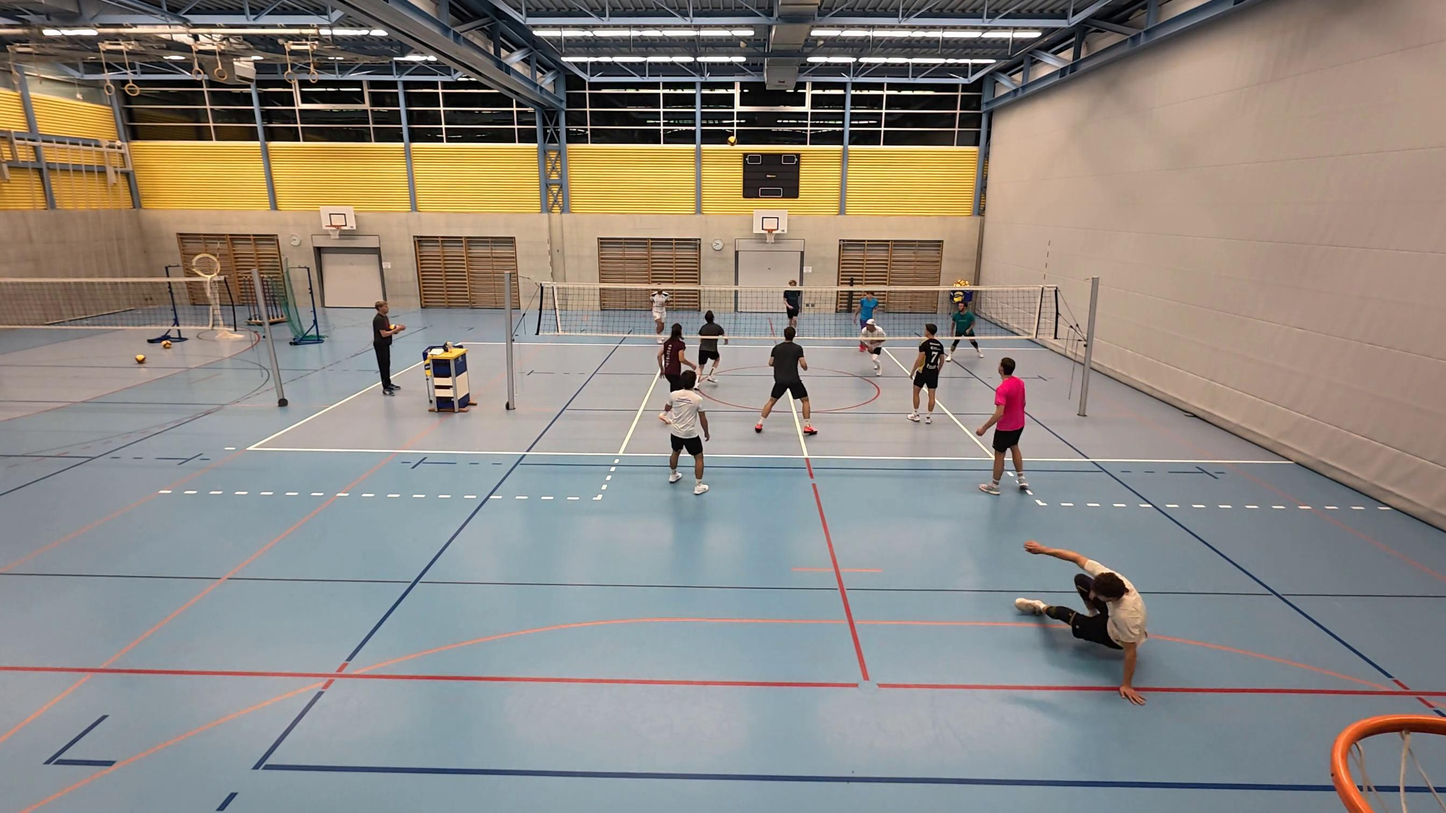Player: (1016, 543, 1146, 705), (753, 326, 817, 436), (978, 357, 1029, 495), (660, 372, 711, 494), (658, 322, 699, 429), (909, 323, 945, 423), (946, 282, 984, 362), (694, 310, 727, 387), (855, 313, 890, 376), (851, 288, 882, 356), (781, 279, 803, 336), (649, 287, 669, 339)
ball: (725, 133, 740, 145)
